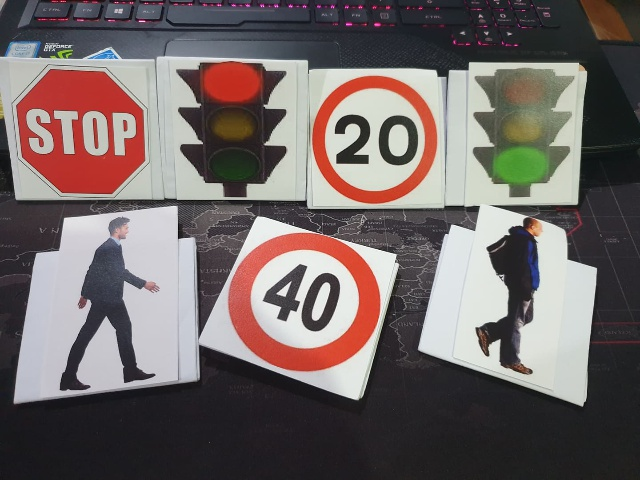Green: (474, 63, 571, 206)
Limit 20: (306, 69, 440, 208)
Limit 40: (230, 228, 382, 377)
Person: (68, 217, 160, 386), (477, 210, 549, 378)
Red: (172, 60, 291, 200)
Stop: (10, 62, 151, 197)
